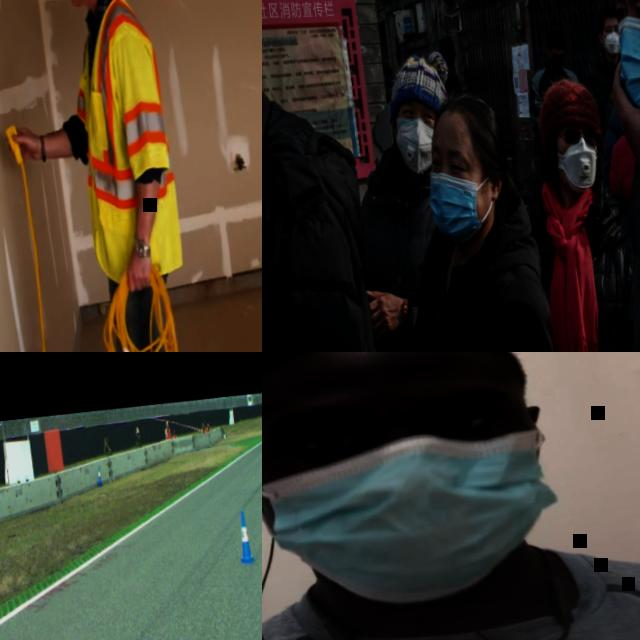Mask: (262, 420, 568, 620), (426, 166, 488, 248), (611, 9, 640, 126), (392, 112, 439, 176), (558, 135, 603, 195), (603, 29, 623, 56), (549, 52, 565, 70)
NO-Hardhat: (262, 352, 522, 398), (428, 89, 505, 160), (533, 73, 603, 137), (384, 48, 450, 111), (545, 21, 568, 45), (597, 0, 618, 21), (437, 31, 457, 50), (382, 64, 394, 78), (104, 429, 108, 435), (136, 426, 139, 433), (166, 421, 169, 426)
NO-Mask: (68, 0, 91, 8)
NO-Safety Vest: (262, 550, 640, 640), (262, 122, 381, 352), (512, 179, 640, 352), (357, 167, 459, 352), (390, 246, 561, 352), (593, 66, 623, 116), (384, 76, 397, 99), (448, 67, 460, 90), (103, 439, 110, 454), (135, 431, 141, 445)
Person: (262, 352, 640, 640), (0, 0, 217, 352), (262, 0, 407, 352), (334, 48, 492, 352), (435, 34, 466, 99), (382, 59, 397, 99), (102, 426, 113, 455), (133, 425, 142, 446), (164, 420, 171, 437), (201, 422, 207, 433), (172, 429, 176, 437), (207, 422, 211, 429)
Safety Cone: (235, 508, 255, 563), (96, 466, 103, 485)
Safety Vest: (63, 0, 187, 285), (165, 425, 172, 438), (172, 431, 176, 437), (206, 425, 210, 430)
